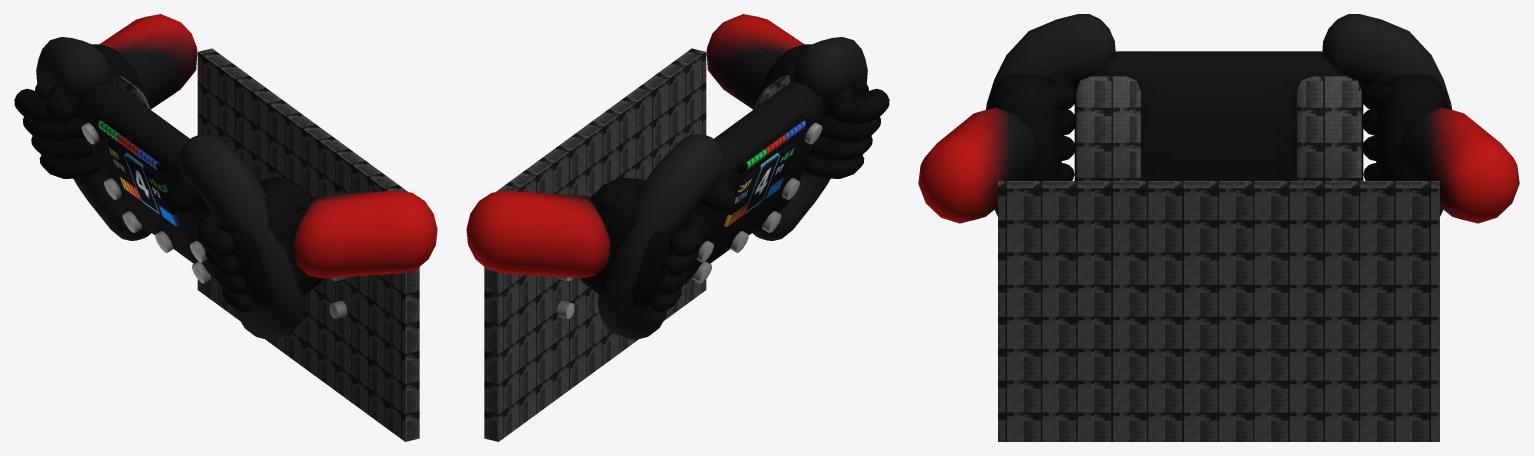
File: tm_tempesta_cockpit_mid.glb
3 renders of one model, left to right at view 1: azimuth 30°, elevation 25°; view 2: azimuth 150°, elevation 25°; view 3: azimuth 270°, elevation 25°, orthographic. The views are drawn at different scales.
Visible parts, largest first — view 1: cockpit_shell, hands, steering_wheel; view 2: cockpit_shell, hands, steering_wheel; view 3: cockpit_shell, steering_wheel, hands.
Part boxes in pixels (left/top/right/bottom): cockpit_shell: left=197, top=48, right=419, bottom=441; hands: left=14, top=14, right=437, bottom=312; steering_wheel: left=36, top=37, right=306, bottom=339; cockpit_shell: left=484, top=48, right=706, bottom=441; hands: left=466, top=14, right=889, bottom=312; steering_wheel: left=597, top=37, right=867, bottom=339; cockpit_shell: left=998, top=181, right=1439, bottom=441; steering_wheel: left=985, top=14, right=1452, bottom=216; hands: left=918, top=73, right=1519, bottom=223.
Bounding box in the file's own units: 0.1724 × 0.2509 × 0.4085.
Materials: 2 (2 with a texture image).
